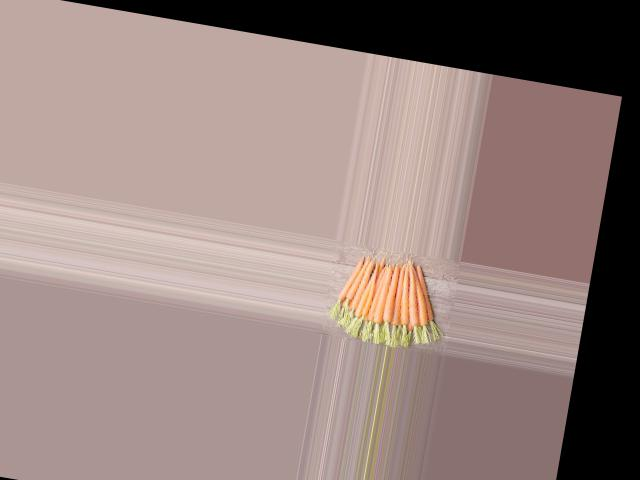carrot: (337, 254, 354, 303)
